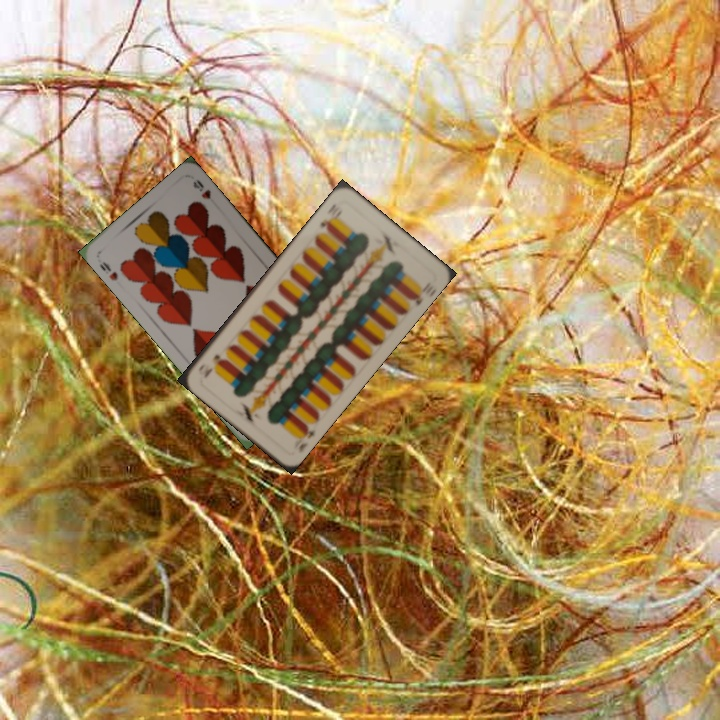E10: (294, 421, 318, 456), (315, 202, 342, 232)
H9: (95, 258, 121, 283)
